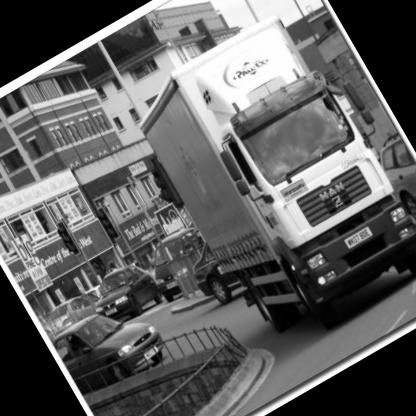car: (41, 276, 190, 416), (79, 249, 170, 334), (147, 222, 227, 306)
truck: (110, 5, 416, 372)
